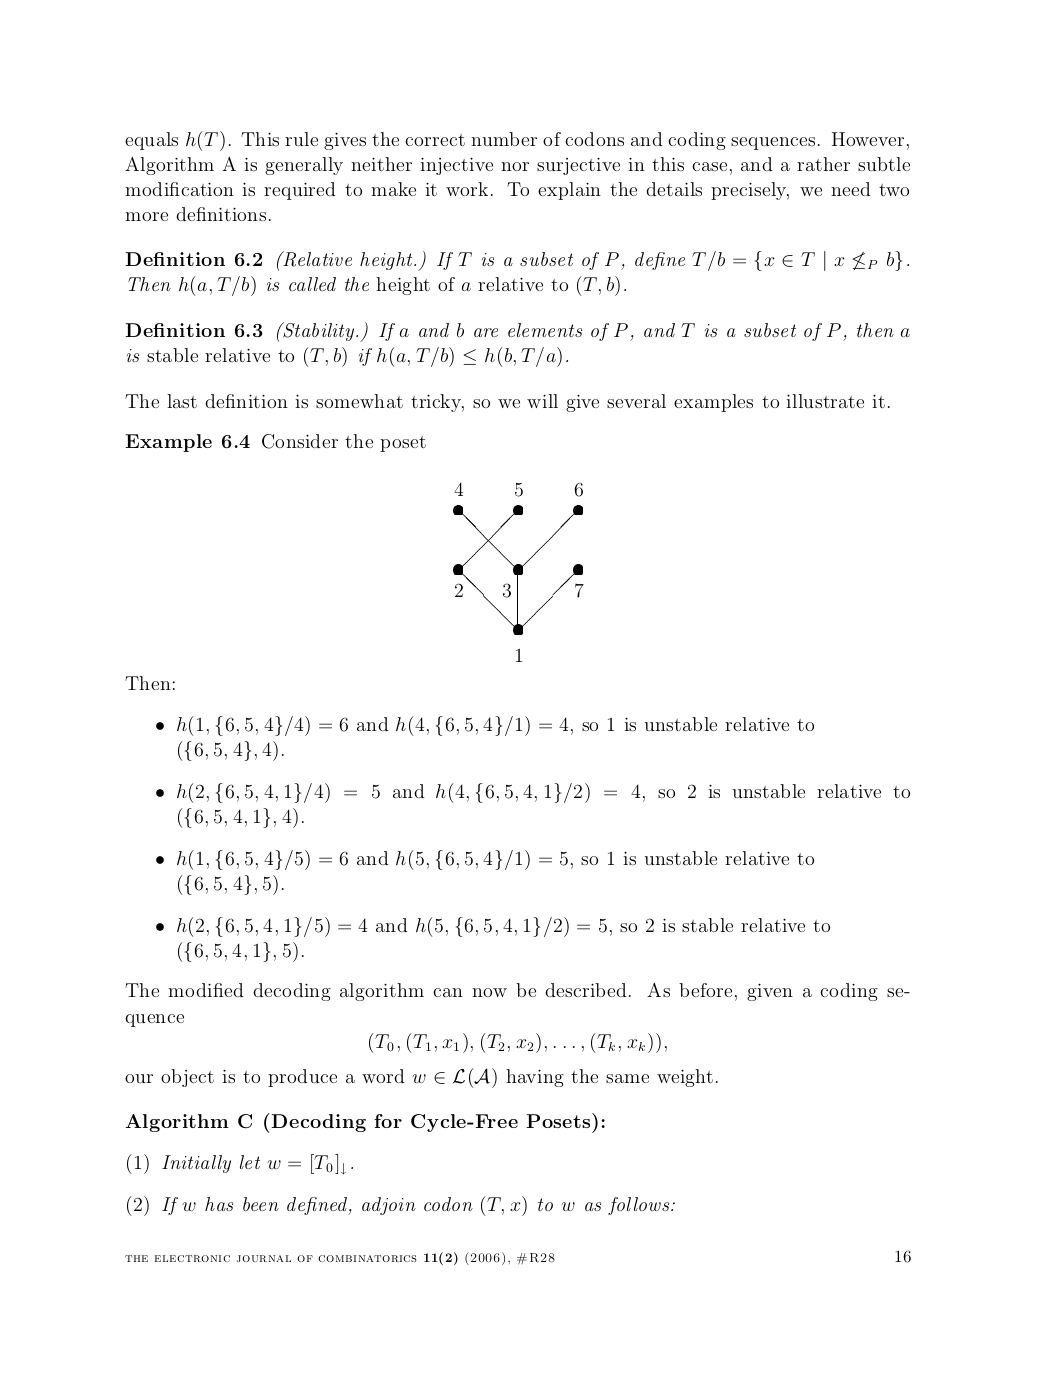figure: (452, 483, 583, 661)
formula: (369, 1032, 666, 1053)
